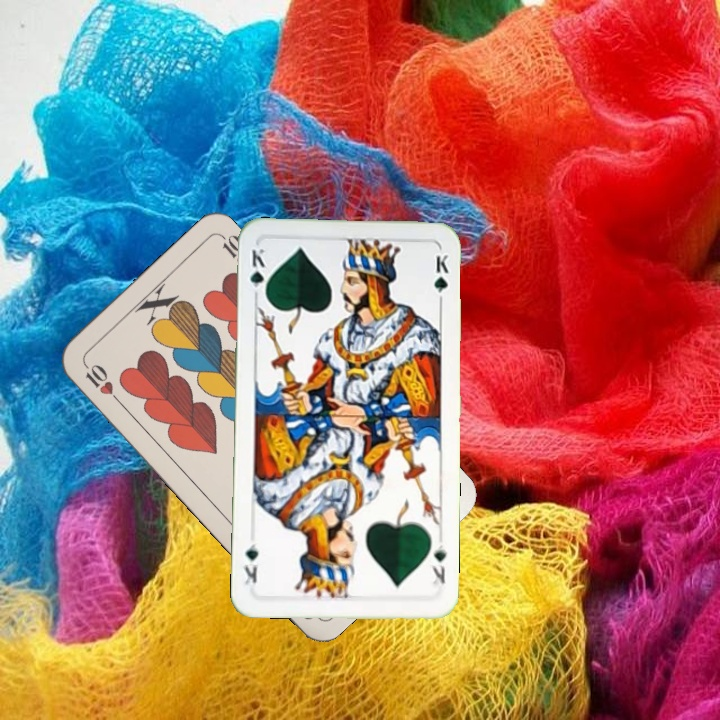GK: (245, 244, 268, 301), (428, 541, 449, 588)
H10: (79, 359, 124, 407)
